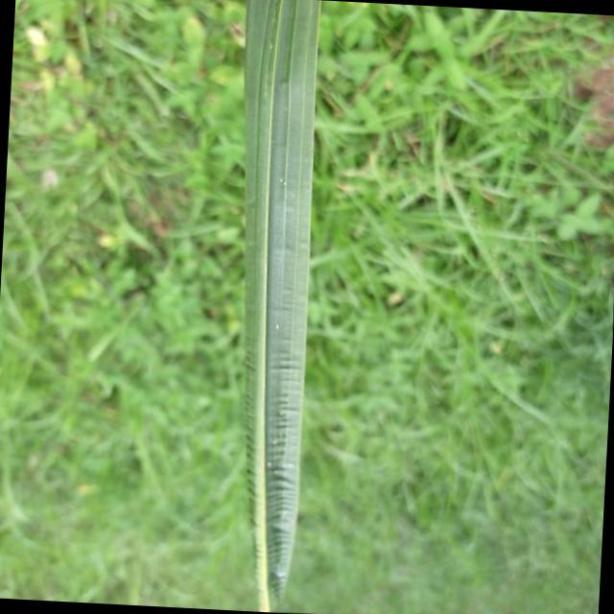Boron: (237, 0, 321, 614)
